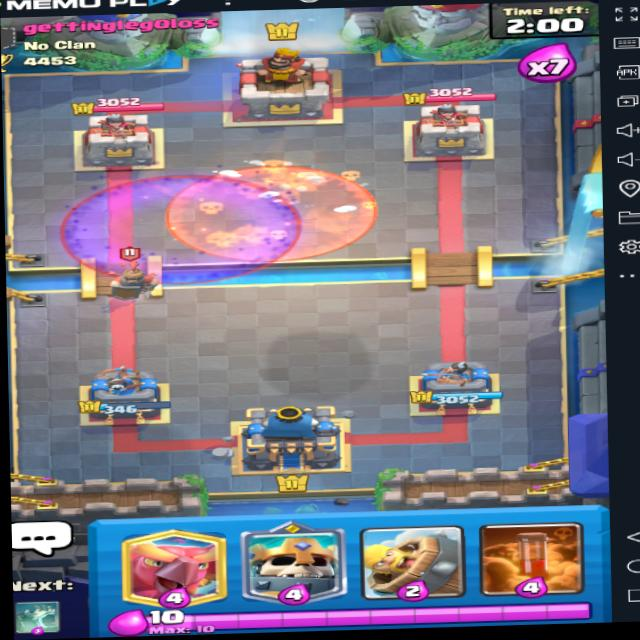graveyard: (64, 168, 304, 284)
poison: (166, 157, 370, 263)
royal-recruits: (104, 247, 162, 302)
